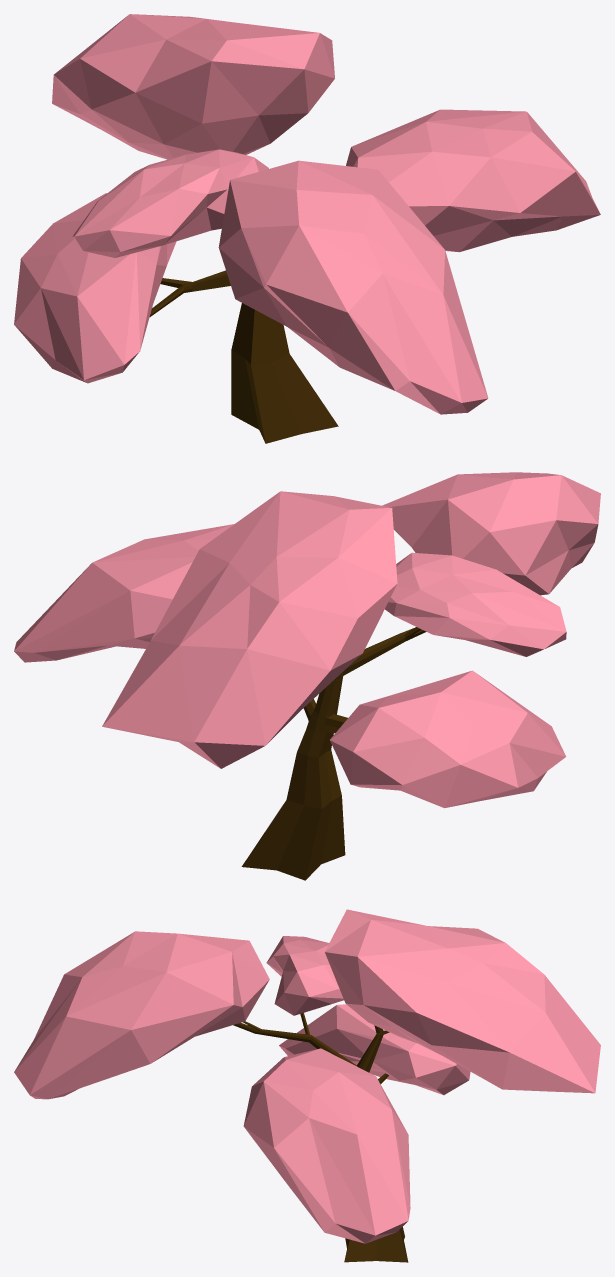
The model's file is cherry-blossom.glb.
The picture shows the model from 3 angles, top to bottom: view 1: azimuth 30°, elevation 25°; view 2: azimuth 150°, elevation 25°; view 3: azimuth 270°, elevation 25°; orthographic projection. The views are drawn at different scales.
Parts seen in each view (by area): view 1: Leaves, Leaves.002, Leaves.003, Leaves.004, Leaves.001, Trunk; view 2: Leaves.002, Leaves.004, Leaves, Leaves.003, Leaves.001, Trunk; view 3: Leaves.002, Leaves, Leaves.003, Leaves.004, Leaves.001, Trunk.
Boxes of the visible parts, x1,y1,x2,y2 form: Leaves: (218, 160, 488, 414); Leaves.002: (52, 14, 334, 159); Leaves.003: (346, 109, 600, 252); Leaves.004: (14, 193, 176, 383); Leaves.001: (72, 149, 268, 257); Trunk: (149, 270, 338, 443); Leaves.002: (102, 491, 397, 768); Leaves.004: (330, 670, 566, 808); Leaves: (382, 472, 600, 595); Leaves.003: (14, 524, 234, 662); Leaves.001: (385, 552, 566, 656); Trunk: (241, 627, 426, 880); Leaves.002: (325, 909, 600, 1093); Leaves: (14, 931, 269, 1099); Leaves.003: (243, 1048, 410, 1243); Leaves.004: (279, 1004, 470, 1095); Leaves.001: (266, 936, 343, 1015); Trunk: (233, 1013, 408, 1262).
Bounding box in the file's own units: 8.17 × 5.52 × 9.56.
